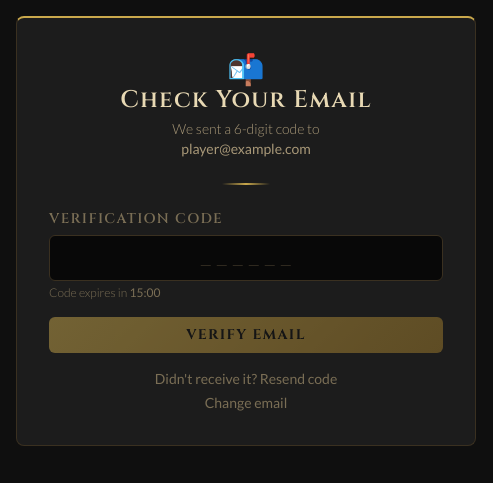
Test: VerifyForm › shows an inline error when verification fails
The image size is (493, 483).
Type "ABC123" into the field named "6-digit verification code".
click(246, 258); type("ABC123")  # box [49,235,443,281]
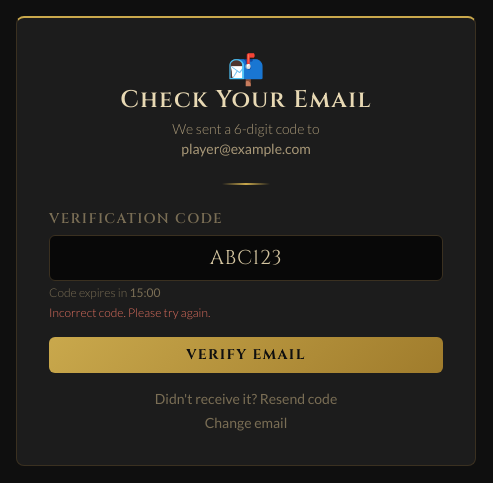
Result: the text "Incorrect code. Please try again." is shown at [49,305,210,320]
